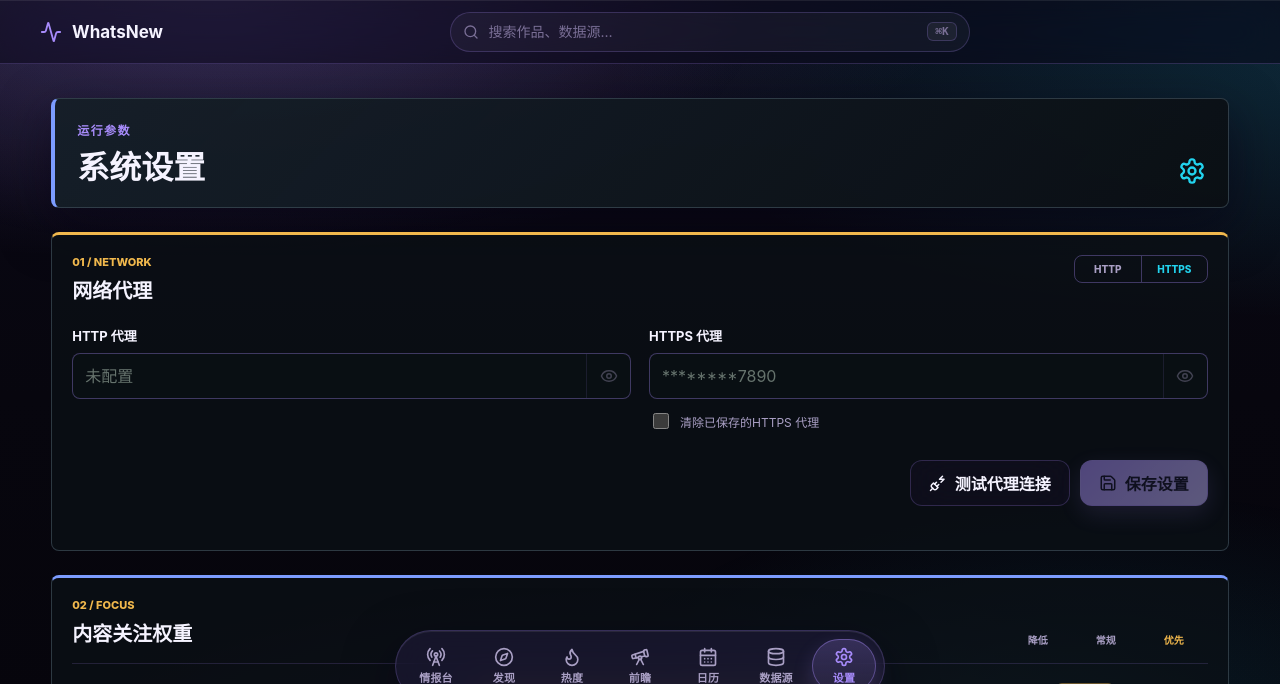
SettingsPage › 用尚未保存的代理值执行连通性测试
The image size is (1280, 684).
Type "http://127.0.0.1:7890" into the password field labelled "HTTPS 代理" at (906, 376), box [650, 354, 1163, 398]
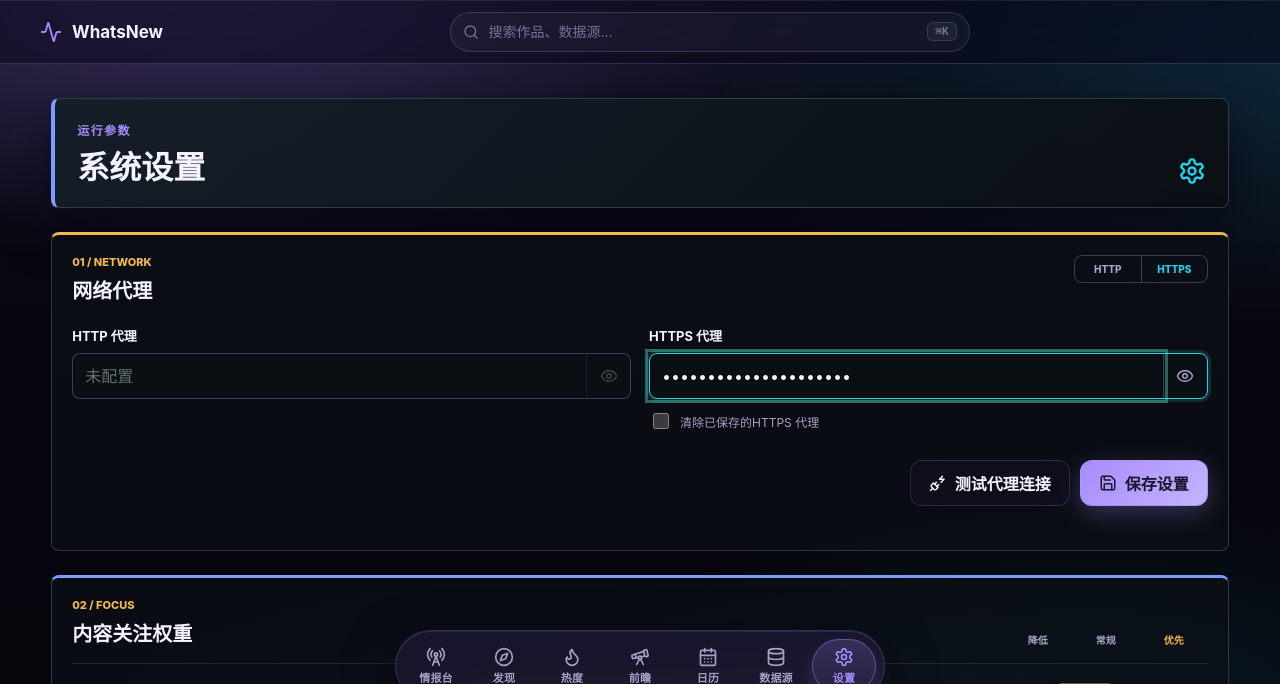
Click the button "测试代理连接" at (990, 483), box [910, 460, 1070, 506]
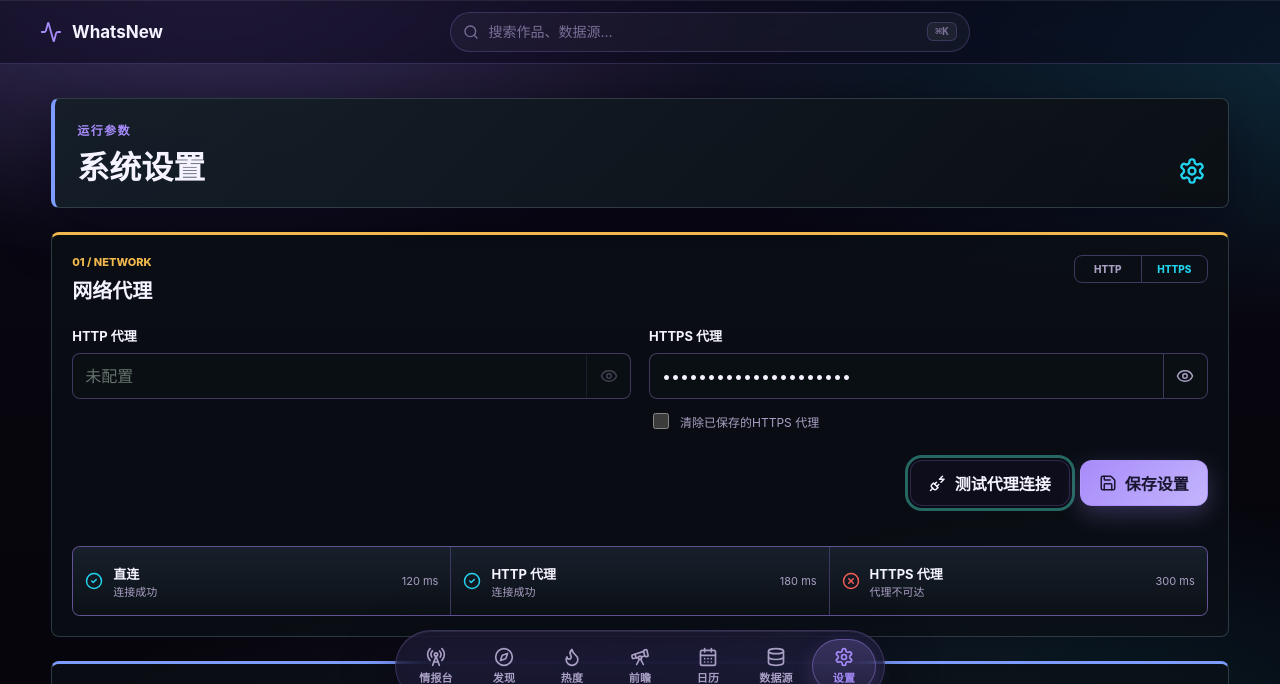
Expected: the text "代理不可达" is shown, [870, 585, 925, 599]
Expected: the text "180 ms" is shown, [780, 574, 817, 588]
